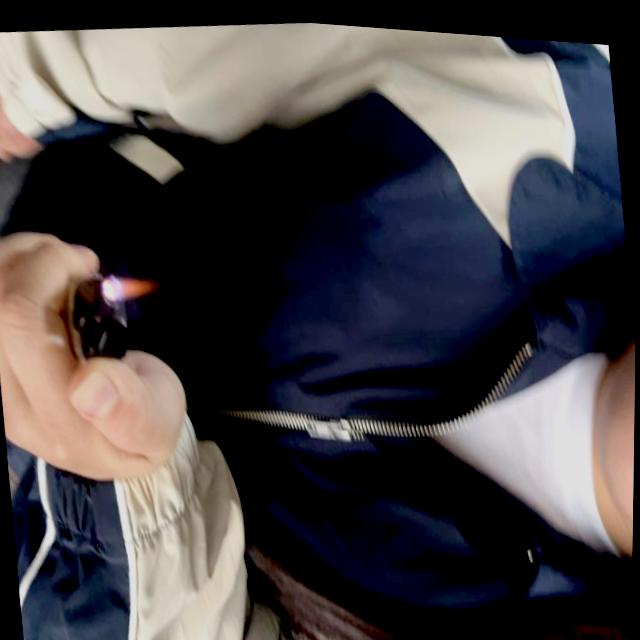helmet: (100, 267, 161, 305)
